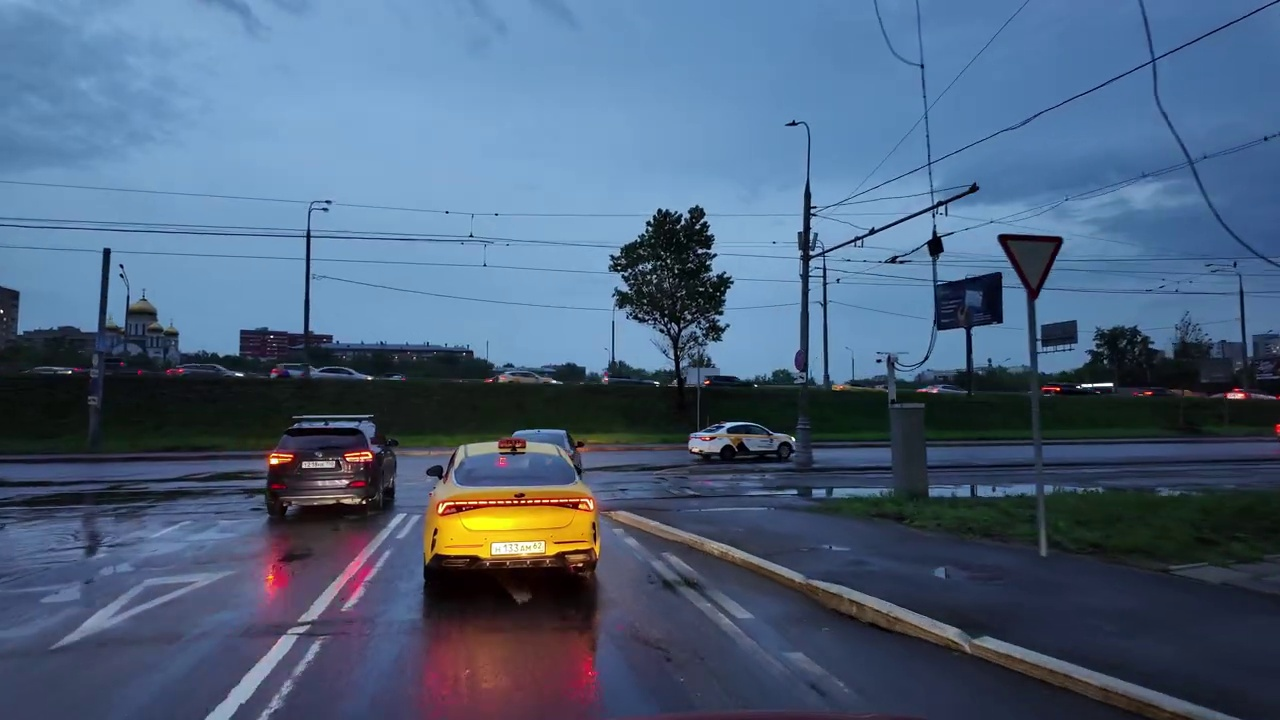apagada: (311, 197, 336, 220), (781, 115, 806, 137)
